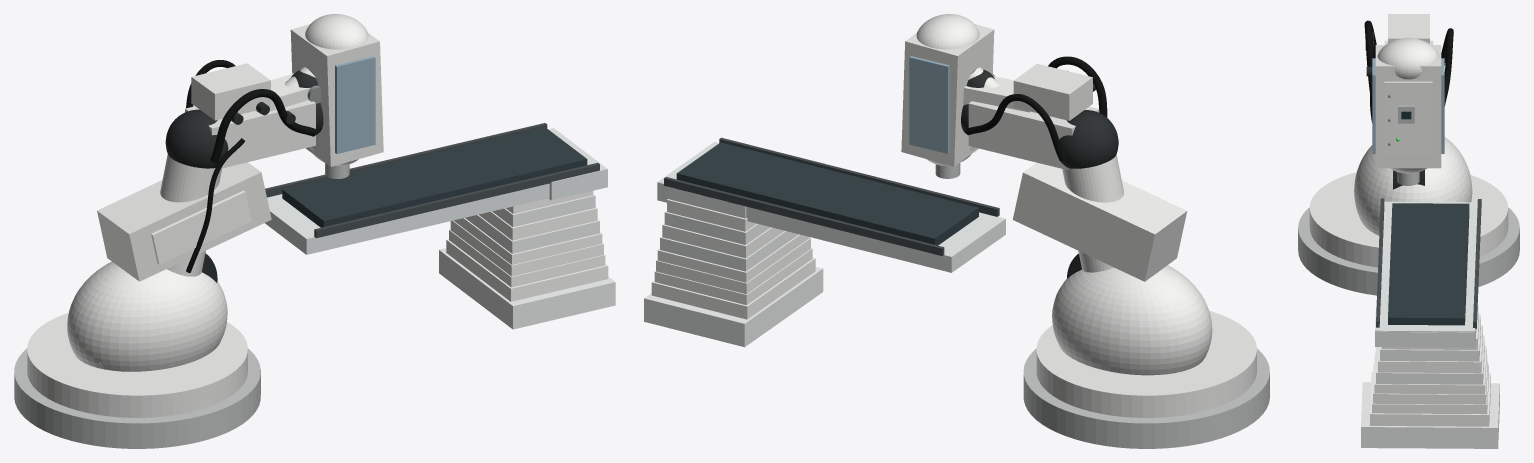
Rendered from cyberknife no patient.glb.
3 views of the same model, side by side, from view 1: azimuth 30°, elevation 25°; view 2: azimuth 150°, elevation 25°; view 3: azimuth 270°, elevation 25° (orthographic). The views are drawn at different scales.
Parts seen in each view (by area): view 1: Large Rear Motor Housing, PATIENT TABLE PAD, Main Circular Base, Base Bottom Platform, Diagonal Arm Outer Shell, PATIENT TABLETOP, TABLE PEDESTAL BASE, LINEAR ACCELERATOR - MAIN HEAD, Horizontal Arm Outer Housing, Accelerator Blue Side Panel, Diagonal Arm Side Panel, Top Rear Mechanical Housing (+16 smaller); view 2: Large Rear Motor Housing, PATIENT TABLE PAD, Main Circular Base, Diagonal Arm Outer Shell, Base Bottom Platform, PATIENT TABLETOP, TABLE PEDESTAL BASE, LINEAR ACCELERATOR - MAIN HEAD, Horizontal Arm Outer Housing, Accelerator Blue Side Panel 2, Top Rear Mechanical Housing, TABLE RIGHT SIDE RAIL (+16 smaller); view 3: PATIENT TABLE PAD, Main Circular Base, Large Rear Motor Housing, Base Bottom Platform, TABLE PEDESTAL BASE, LINEAR ACCELERATOR - MAIN HEAD, PATIENT TABLETOP, Accelerator Head Front Face, TABLE ACCORDION SECTION 00.003, Accelerator Head Top, TABLE ACCORDION SECTION 01, TABLE ACCORDION SECTION 02 (+15 smaller).
Part boxes in pixels (left/top/right/bottom): Large Rear Motor Housing: left=67, top=261, right=227, bottom=371; PATIENT TABLE PAD: left=282, top=127, right=587, bottom=227; Main Circular Base: left=27, top=312, right=247, bottom=417; Base Bottom Platform: left=14, top=348, right=260, bottom=448; Diagonal Arm Outer Shell: left=97, top=162, right=271, bottom=281; PATIENT TABLETOP: left=265, top=183, right=549, bottom=254; TABLE PEDESTAL BASE: left=439, top=248, right=615, bottom=329; LINEAR ACCELERATOR - MAIN HEAD: left=290, top=24, right=383, bottom=166; Horizontal Arm Outer Housing: left=185, top=100, right=315, bottom=168; Accelerator Blue Side Panel: left=335, top=56, right=375, bottom=153; Diagonal Arm Side Panel: left=151, top=190, right=251, bottom=264; Top Rear Mechanical Housing: left=191, top=63, right=270, bottom=120; Large Rear Motor Housing: left=1052, top=265, right=1212, bottom=375; PATIENT TABLE PAD: left=676, top=142, right=978, bottom=245; Main Circular Base: left=1036, top=311, right=1256, bottom=417; Diagonal Arm Outer Shell: left=1012, top=162, right=1187, bottom=281; Base Bottom Platform: left=1023, top=348, right=1269, bottom=448; PATIENT TABLETOP: left=746, top=206, right=1005, bottom=272; TABLE PEDESTAL BASE: left=644, top=267, right=823, bottom=347; LINEAR ACCELERATOR - MAIN HEAD: left=901, top=24, right=994, bottom=166; Horizontal Arm Outer Housing: left=968, top=101, right=1099, bottom=170; Accelerator Blue Side Panel 2: left=909, top=56, right=949, bottom=153; Top Rear Mechanical Housing: left=1013, top=63, right=1092, bottom=120; TABLE RIGHT SIDE RAIL: left=664, top=177, right=944, bottom=255; PATIENT TABLE PAD: left=1388, top=203, right=1469, bottom=325; Main Circular Base: left=1309, top=172, right=1508, bottom=267; Large Rear Motor Housing: left=1354, top=137, right=1472, bottom=235; Base Bottom Platform: left=1298, top=207, right=1519, bottom=295; TABLE PEDESTAL BASE: left=1361, top=382, right=1499, bottom=448; LINEAR ACCELERATOR - MAIN HEAD: left=1375, top=45, right=1441, bottom=168; PATIENT TABLETOP: left=1378, top=201, right=1477, bottom=346; Accelerator Head Front Face: left=1384, top=81, right=1432, bottom=155; TABLE ACCORDION SECTION 00.003: left=1370, top=371, right=1490, bottom=426; Accelerator Head Top: left=1377, top=38, right=1439, bottom=79; TABLE ACCORDION SECTION 01: left=1376, top=335, right=1484, bottom=384; TABLE ACCORDION SECTION 02: left=1378, top=325, right=1482, bottom=373.
Bounding box in the file's own units: 5.51 × 3.1 × 2.1.
